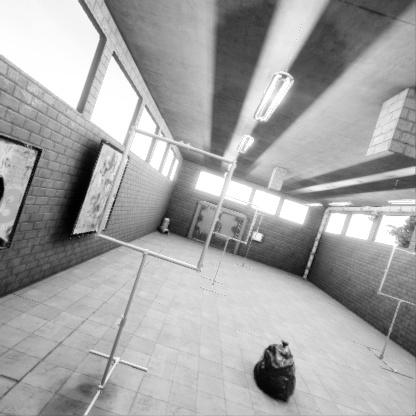gate: (103, 151, 243, 290), (212, 173, 262, 223), (381, 108, 416, 170), (250, 178, 263, 203)
